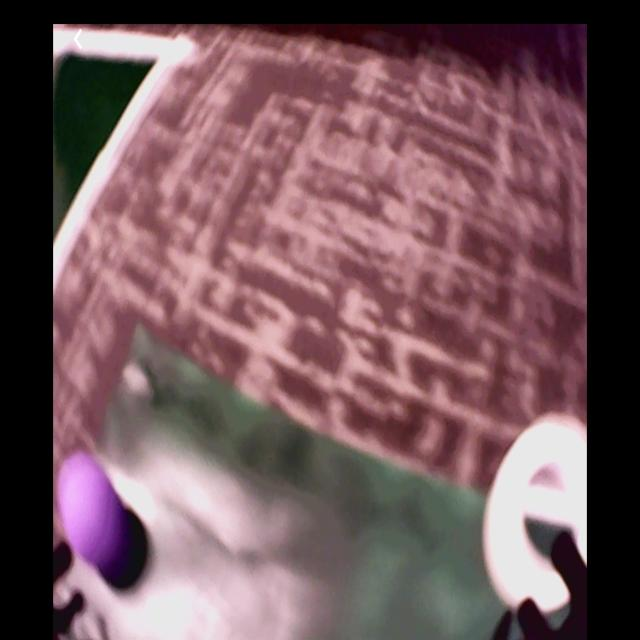ball: (58, 448, 127, 576)
